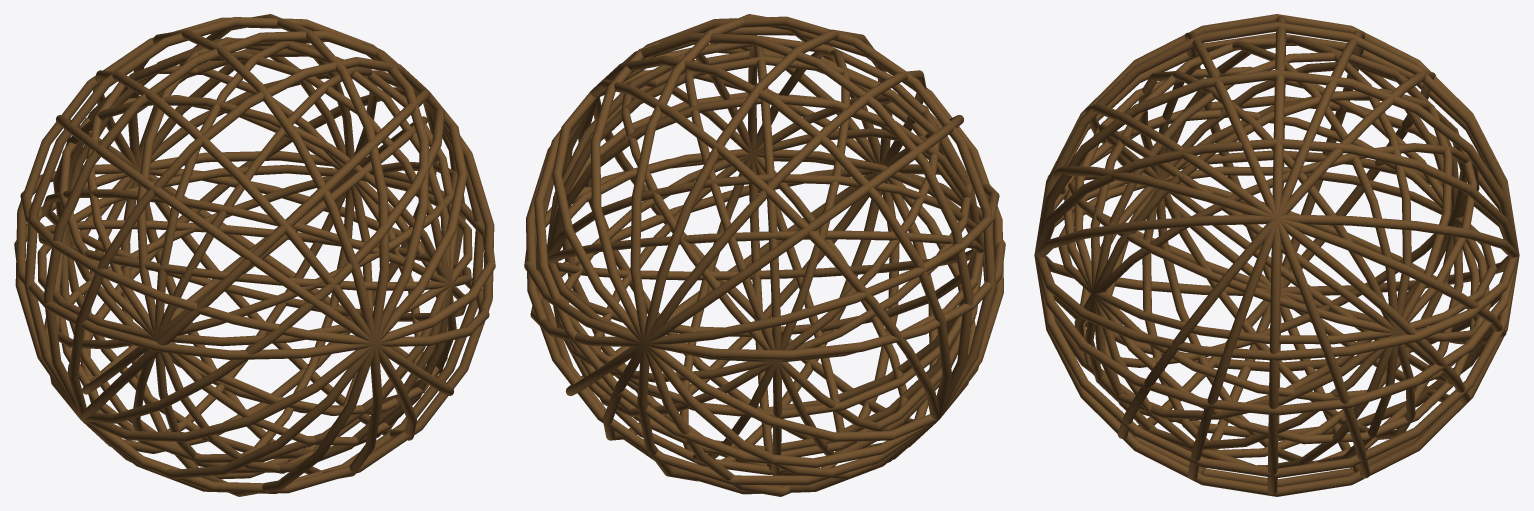
Rendered from Tumble weed.fbx.
3 renders of one model, left to right at view 1: azimuth 30°, elevation 25°; view 2: azimuth 150°, elevation 25°; view 3: azimuth 270°, elevation 25°, orthographic.
Visible parts, largest first — view 1: pTorus14 (×2), pTorus13 (×2), pTorus8 (×2), pTorus4 (×2), pTorus12 (×2), pTorus11 (×2), pTorus2 (×2), pTorus5 (×2), pTorus7 (×2), pTorus3 (×2), pTorus9 (×2), pTorus6 (×2) (+3 smaller); view 2: pTorus10 (×2), pTorus11 (×2), pTorus5 (×2), pTorus8 (×2), pTorus14 (×2), pTorus2 (×2), pTorus12 (×2), pTorus13 (×2), pTorus7 (×2), pTorus9 (×2), pTorus4 (×2), pTorus3 (×2) (+3 smaller); view 3: pTorus3 (×2), pTorus4 (×2), pTorus8 (×2), pTorus5 (×2), pTorus2 (×2), pTorus6 (×2), pTorus10 (×2), pTorus11 (×2), pTorus14 (×2), pTorus9 (×2), pTorus7 (×2), pTorus13 (×2) (+3 smaller).
Boxes of the visible parts, x1,y1,x2,y2 form: pTorus14 (×2): (15, 17, 494, 493); pTorus13 (×2): (24, 17, 483, 493); pTorus8 (×2): (37, 70, 472, 441); pTorus4 (×2): (93, 41, 416, 466); pTorus12 (×2): (43, 30, 465, 479); pTorus11 (×2): (53, 57, 456, 453); pTorus2 (×2): (20, 65, 489, 445); pTorus5 (×2): (128, 29, 382, 478); pTorus7 (×2): (55, 40, 457, 479); pTorus3 (×2): (56, 37, 453, 473); pTorus9 (×2): (38, 87, 471, 423); pTorus6 (×2): (82, 14, 427, 496); pTorus10 (×2): (526, 26, 1003, 485); pTorus11 (×2): (536, 16, 996, 494); pTorus5 (×2): (547, 29, 975, 481); pTorus8 (×2): (548, 70, 984, 441); pTorus14 (×2): (590, 79, 939, 431); pTorus2 (×2): (530, 164, 999, 346); pTorus12 (×2): (561, 32, 973, 475); pTorus13 (×2): (578, 53, 951, 455); pTorus7 (×2): (560, 42, 984, 479); pTorus9 (×2): (534, 43, 986, 467); pTorus4 (×2): (547, 56, 983, 451); pTorus3 (×2): (547, 94, 984, 410); pTorus3 (×2): (1034, 33, 1519, 478); pTorus4 (×2): (1035, 14, 1518, 496); pTorus8 (×2): (1034, 166, 1519, 344); pTorus5 (×2): (1035, 22, 1518, 486); pTorus2 (×2): (1035, 62, 1518, 449); pTorus6 (×2): (1034, 69, 1519, 440); pTorus10 (×2): (1074, 66, 1479, 444); pTorus11 (×2): (1090, 32, 1463, 478); pTorus14 (×2): (1074, 69, 1479, 438); pTorus9 (×2): (1047, 109, 1506, 401); pTorus7 (×2): (1034, 138, 1519, 371); pTorus13 (×2): (1085, 30, 1467, 479).
Size of the model in its own units: 2.04 by 2.04 by 2.04.
